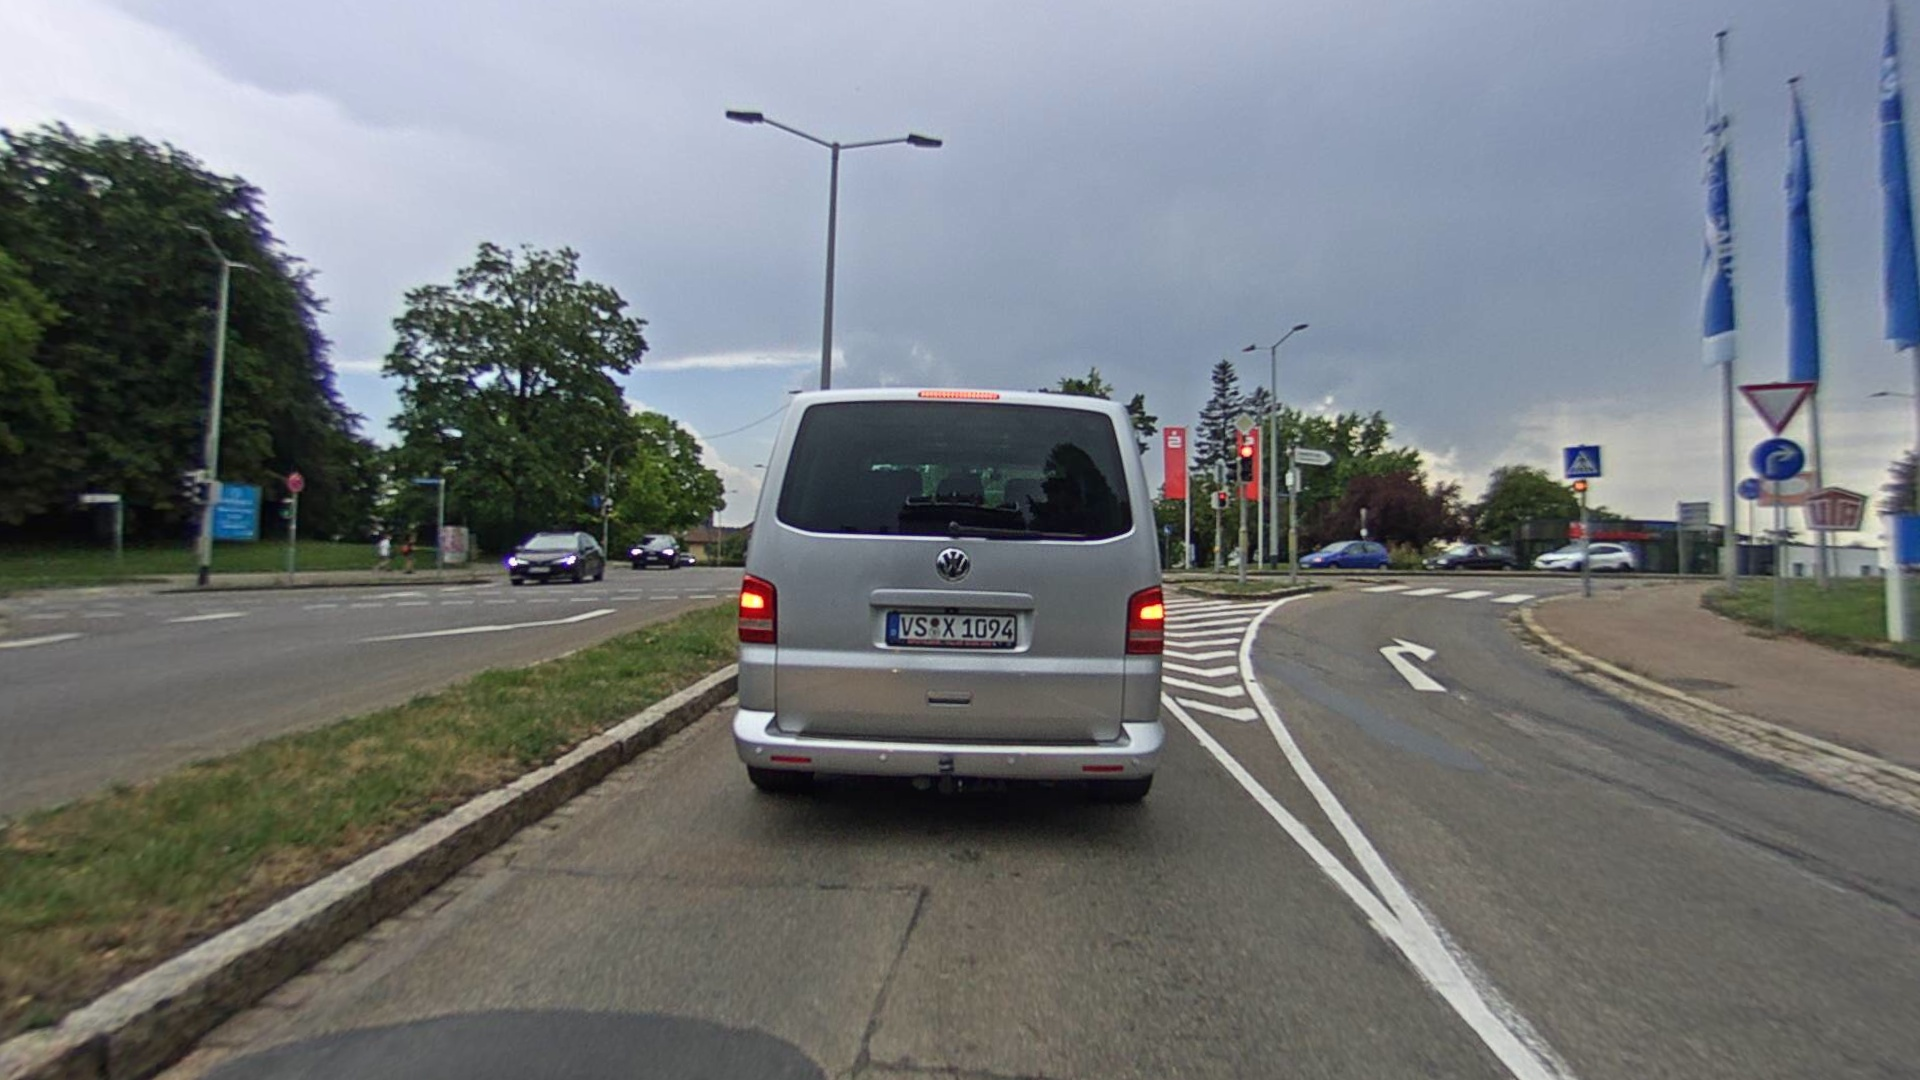car: (733, 385, 1168, 833)
